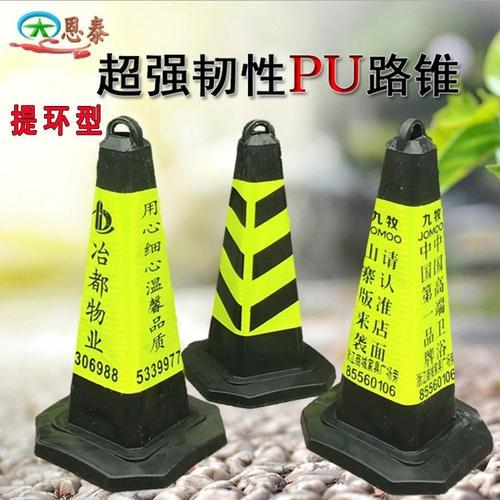cone_barrel: (316, 118, 488, 474), (45, 112, 206, 463), (193, 124, 329, 394)
